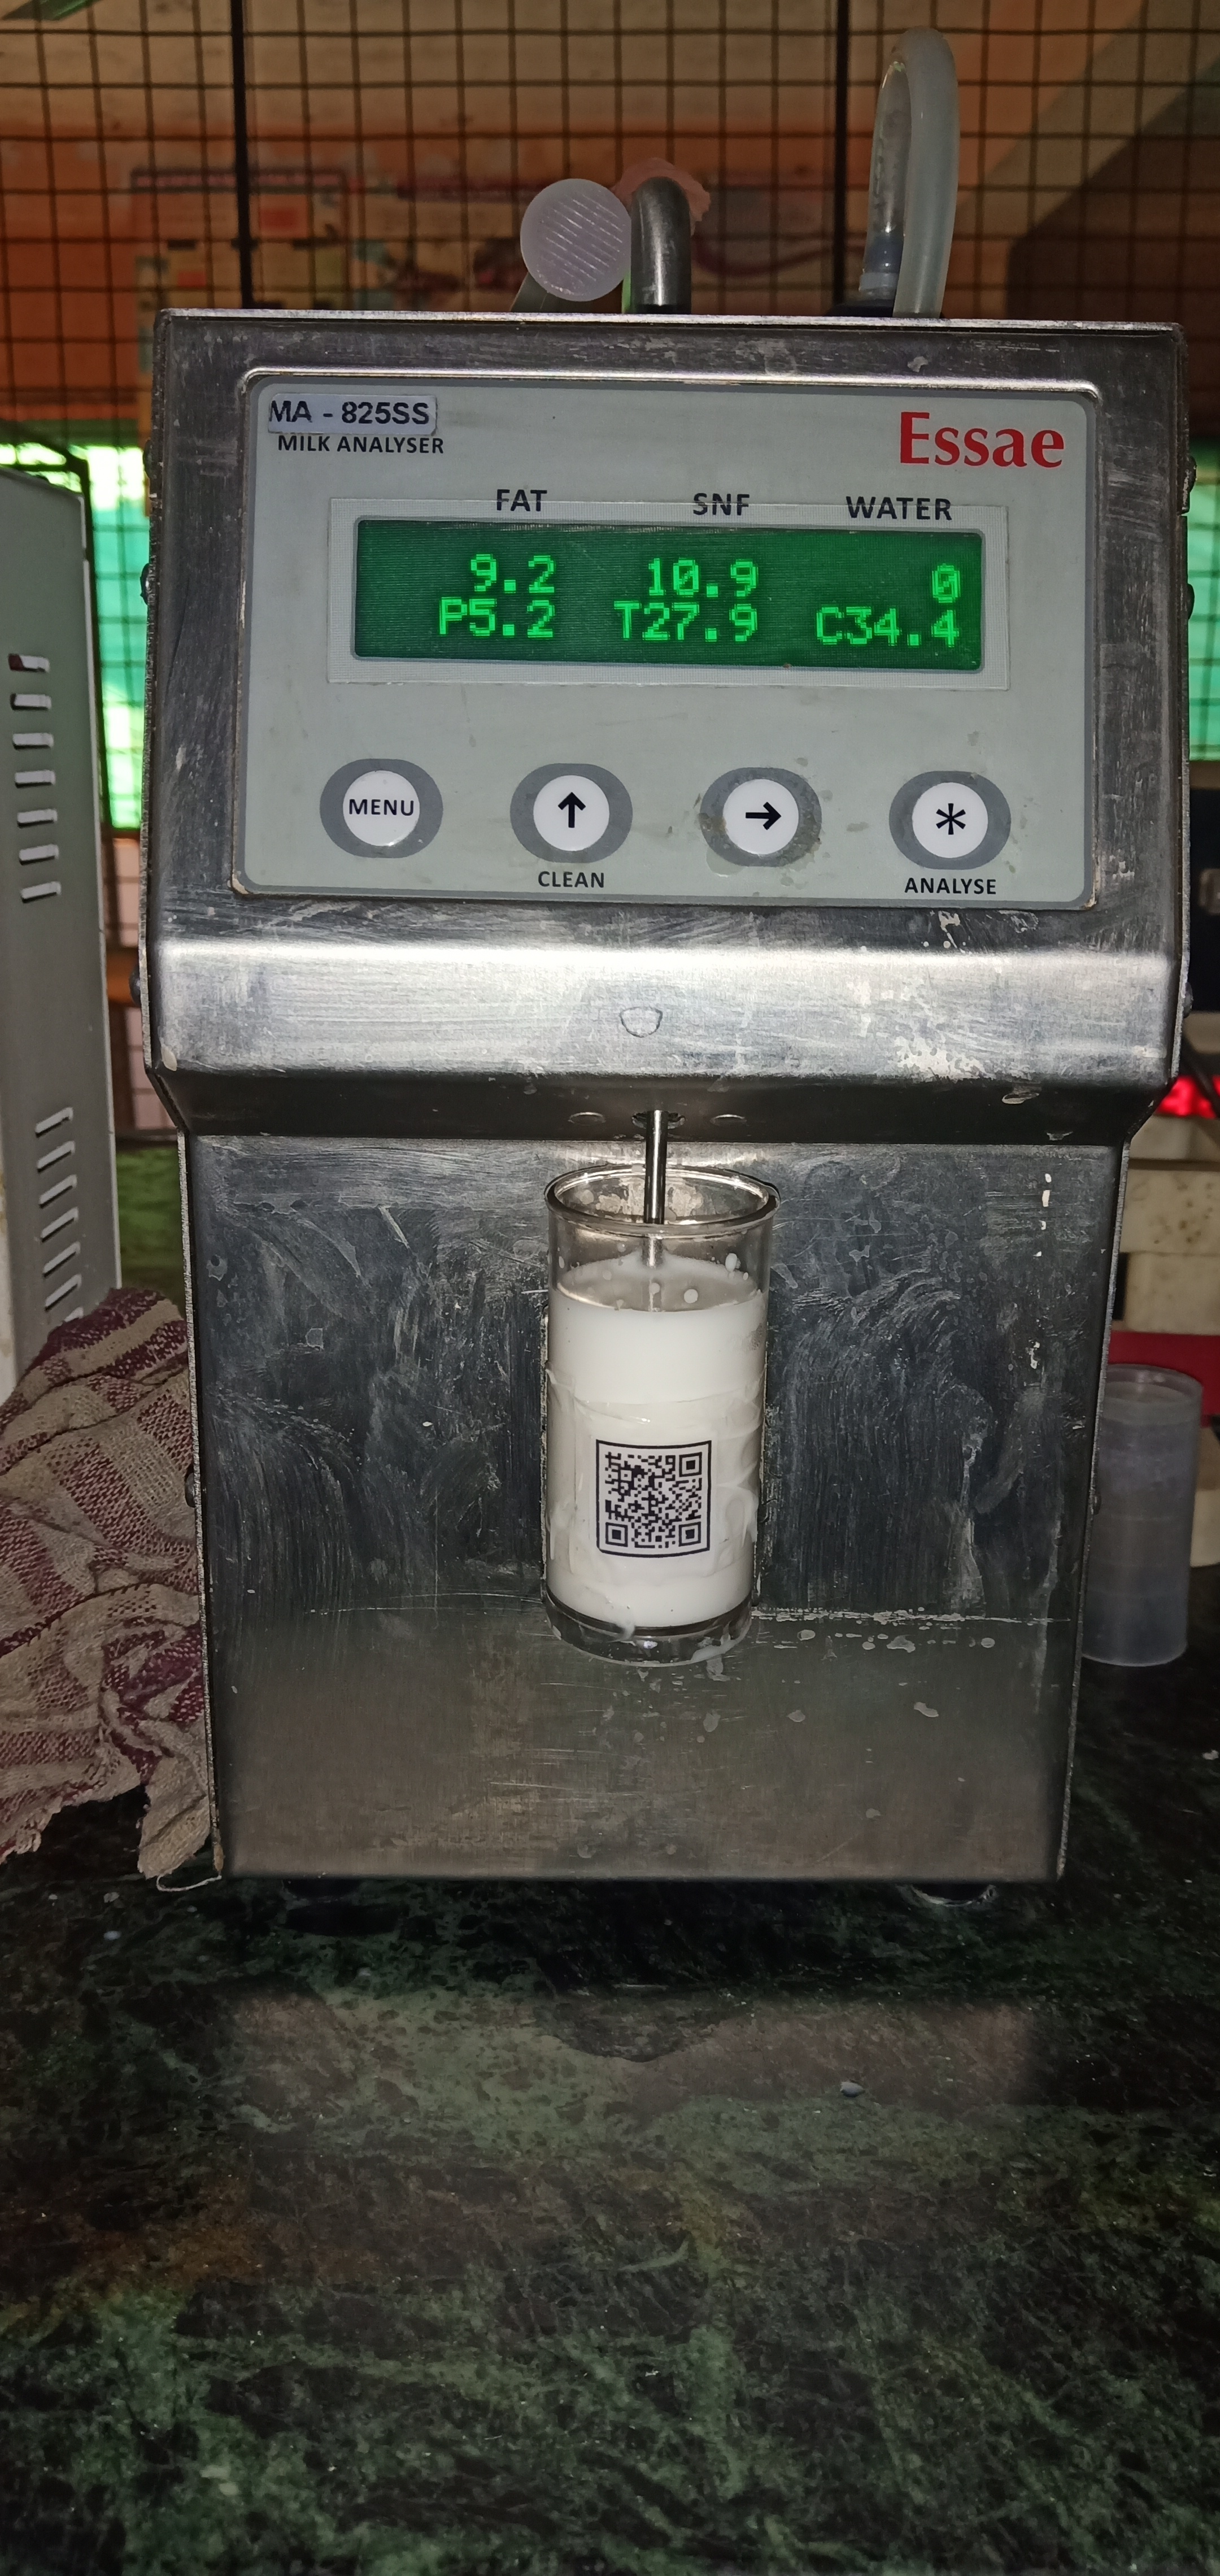lcd: (346, 501, 1007, 715)
qr: (588, 1433, 721, 1571)
